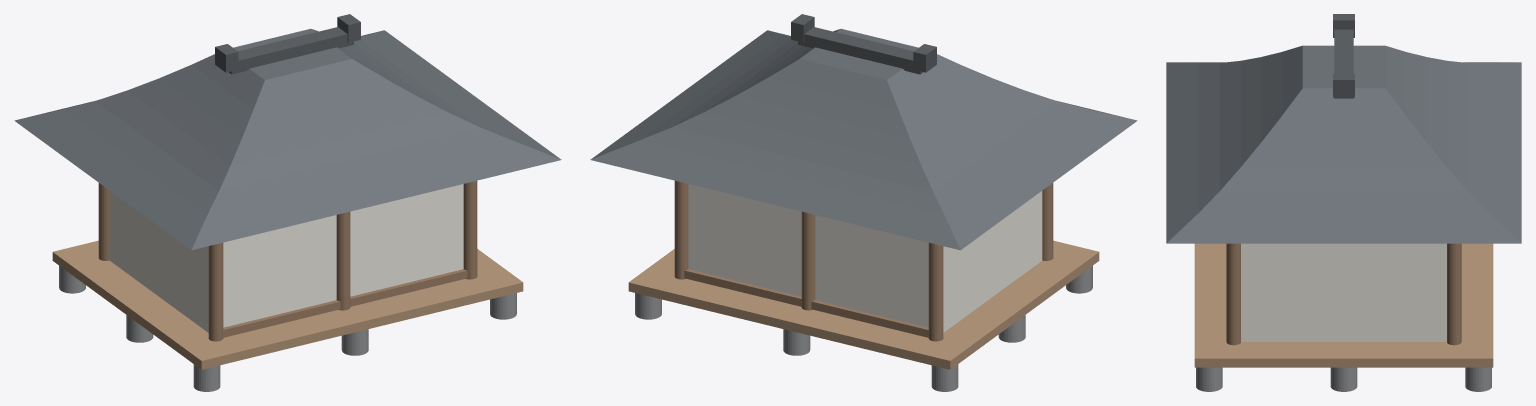
The model's file is house_rural_01.glb.
3 views of the same model, side by side, from view 1: azimuth 30°, elevation 25°; view 2: azimuth 150°, elevation 25°; view 3: azimuth 270°, elevation 25° (orthographic).
Visible parts, largest first — view 1: House_Rural_01; view 2: House_Rural_01; view 3: House_Rural_01.
Boxes of the visible parts, x1,y1,x2,y2 form: House_Rural_01: (14,14,561,391); House_Rural_01: (590,14,1137,391); House_Rural_01: (1166,14,1521,391).
Bounding box in the file's own units: 7 × 4.81 × 5.8.
